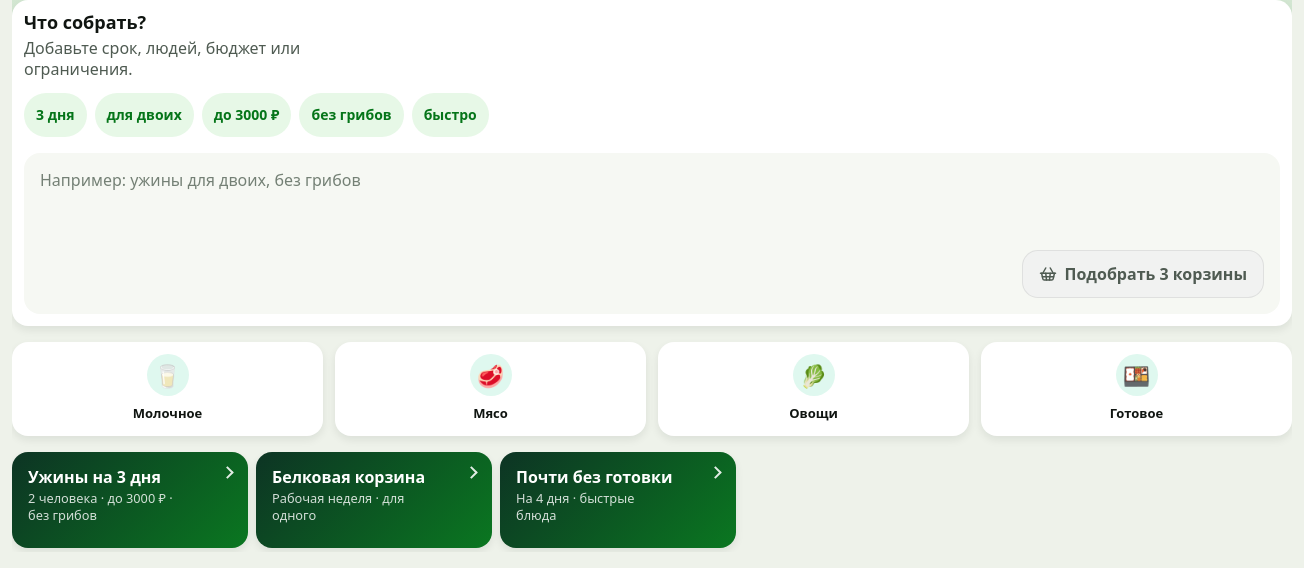
Scenario: ConversationPanel › adds grocery category shortcuts to the request
The width and height of the screenshot is (1304, 568).
Click the button "🥬 Овощи".
click(814, 389)  # box [658,342,969,436]
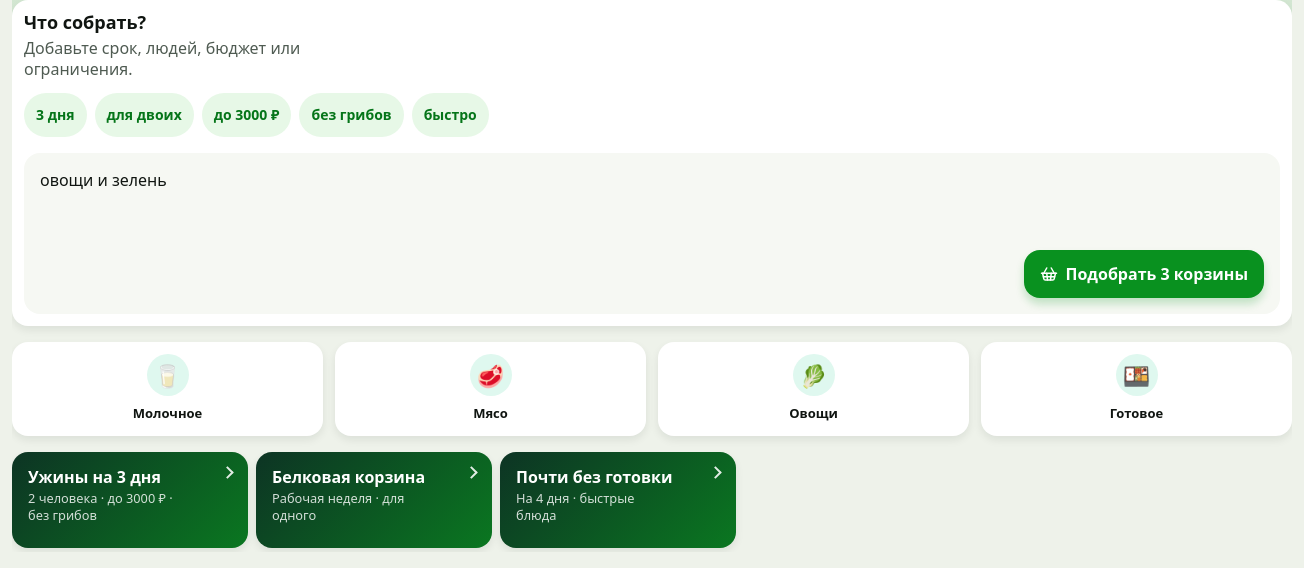
Expected: the text box labelled "Что собрать?" holds "овощи и зелень", [24,153,1280,314]
